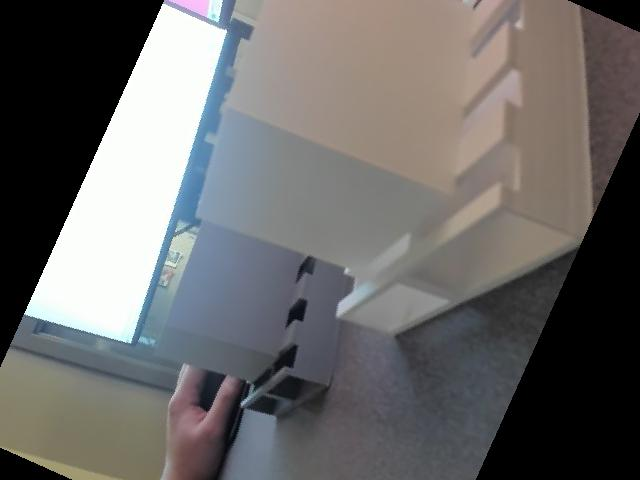grey pallet: (149, 223, 376, 411)
white pallet: (187, 7, 618, 334)
